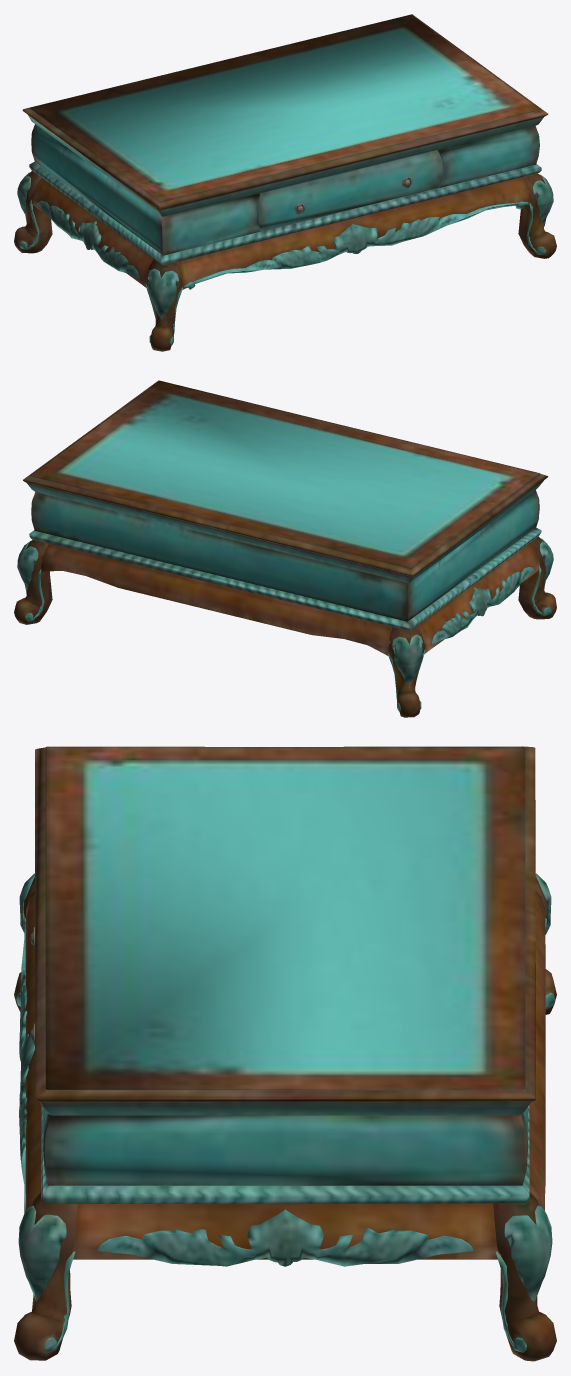
File: coffee_table.glb
The picture shows the model from 3 angles, top to bottom: view 1: azimuth 30°, elevation 25°; view 2: azimuth 150°, elevation 25°; view 3: azimuth 270°, elevation 25°; orthographic projection. The views are drawn at different scales.
Parts seen in each view (by area): view 1: CoffeeTable_01; view 2: CoffeeTable_01; view 3: CoffeeTable_01.
Boxes of the visible parts, box(x1,y1,x2,y2) form: CoffeeTable_01: box(14, 14, 556, 351); CoffeeTable_01: box(14, 380, 556, 717); CoffeeTable_01: box(14, 746, 556, 1361).
Size of the model in its own units: 1.54 by 0.5232 by 0.9728.
1 material, 1 textured.
